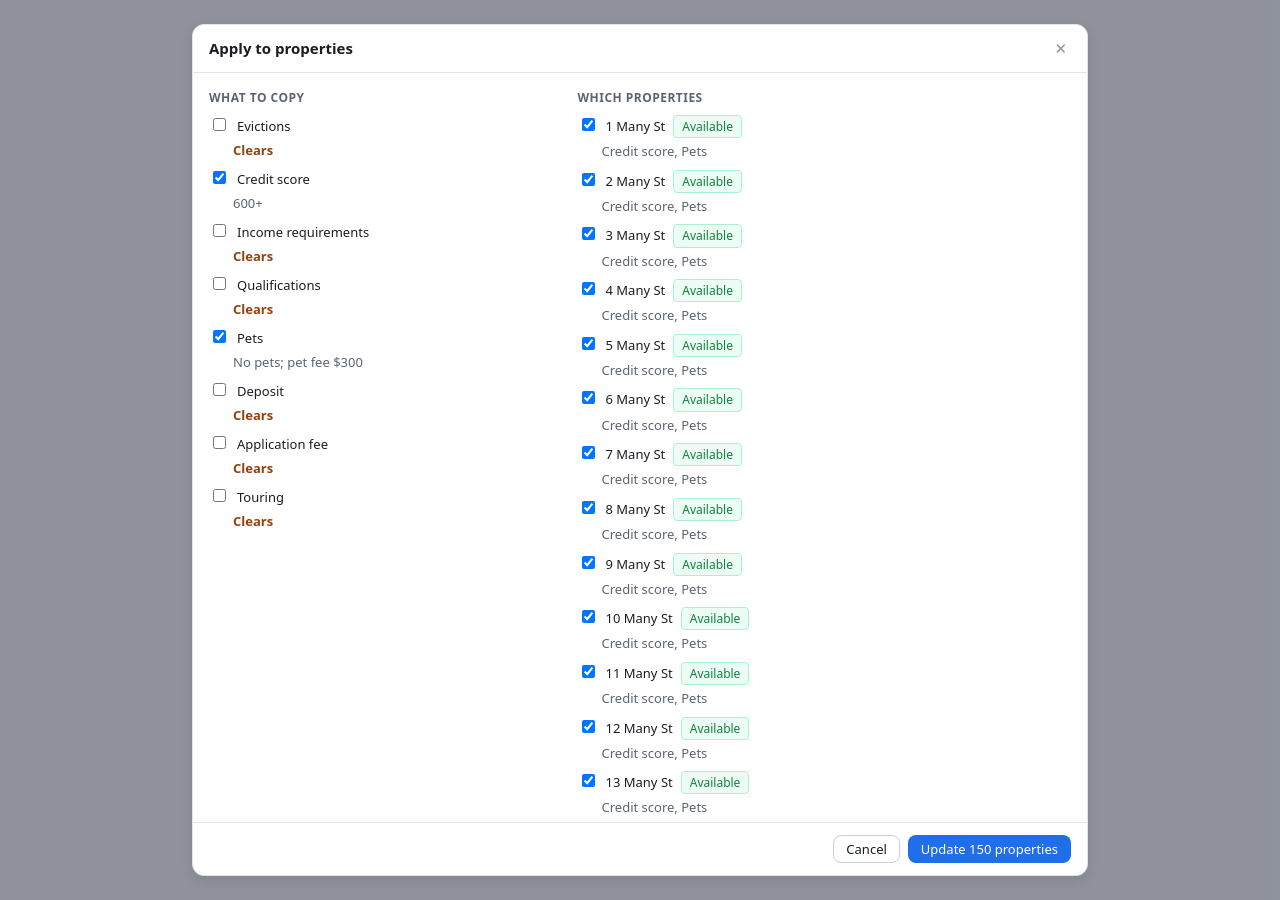
Test: ApplyRequirementsDialog - the left column across a re-read (worklist OR-17) › a stopped run (a later batch failing) keeps what staff unchecked after the re-read
Step 1. Click the checkbox labelled "Credit score" → {"x": 220, "y": 178}, box top-left (213, 171), bottom-right (226, 184)
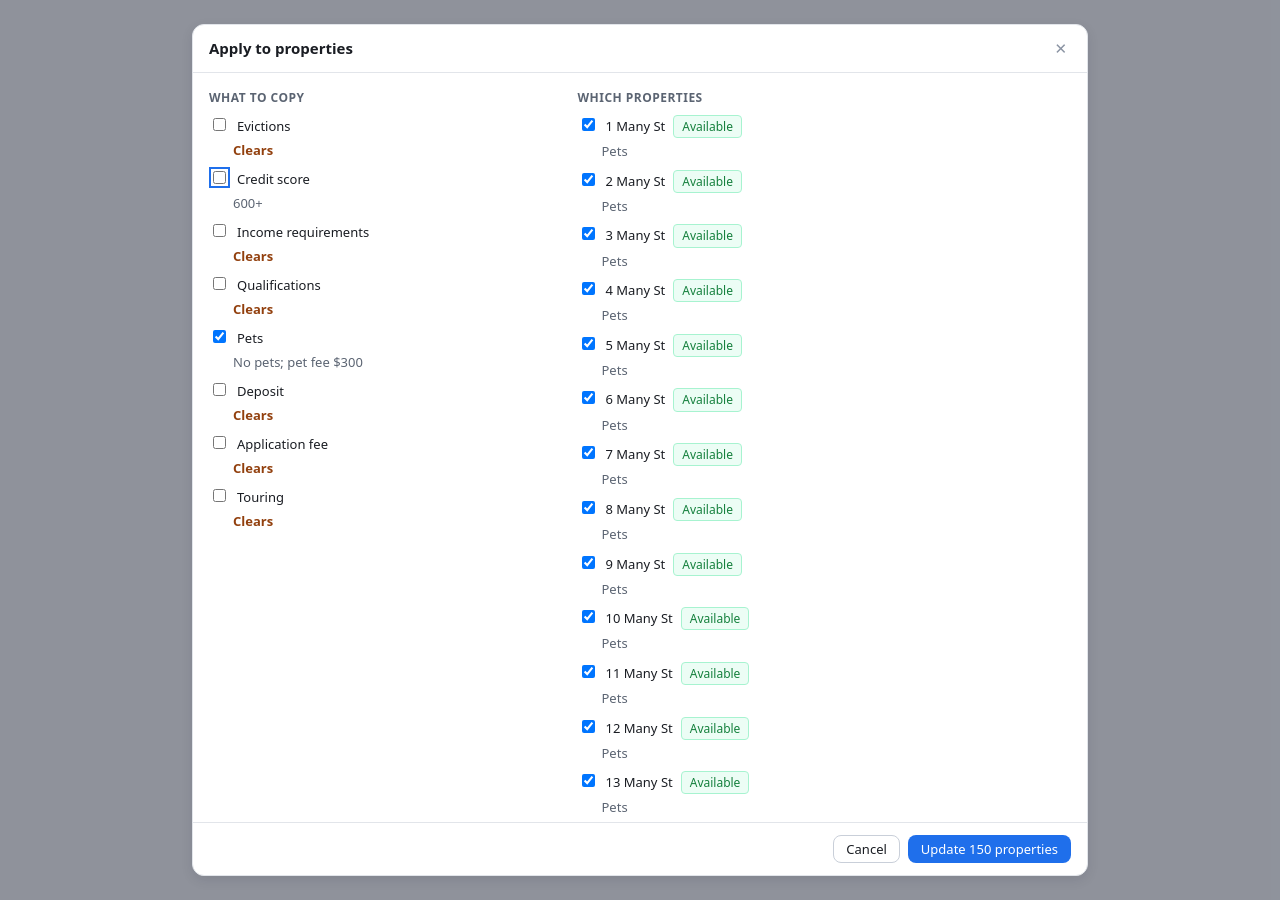
Step 2. Click the button "Update 150 properties" → {"x": 989, "y": 849}, box top-left (908, 835), bottom-right (1071, 863)
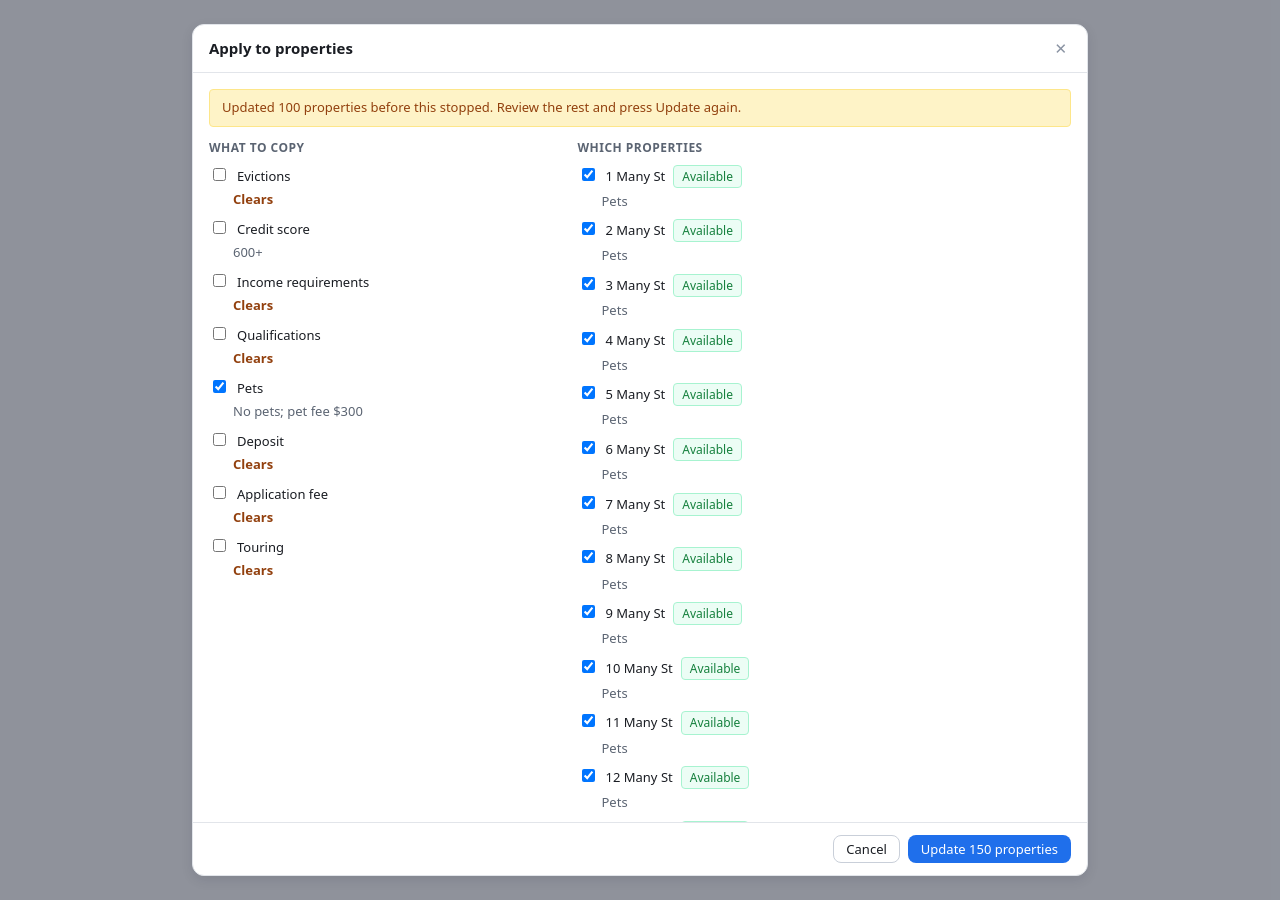
Expected: the checkbox labelled "Credit score" is not checked, top-left (213, 220), bottom-right (226, 234)
Expected: the text "Updated 100 properties before this stopped. Review the rest and press Update again." is shown, top-left (222, 98), bottom-right (741, 116)
Expected: the checkbox labelled "Pets" is checked, top-left (213, 380), bottom-right (226, 392)
